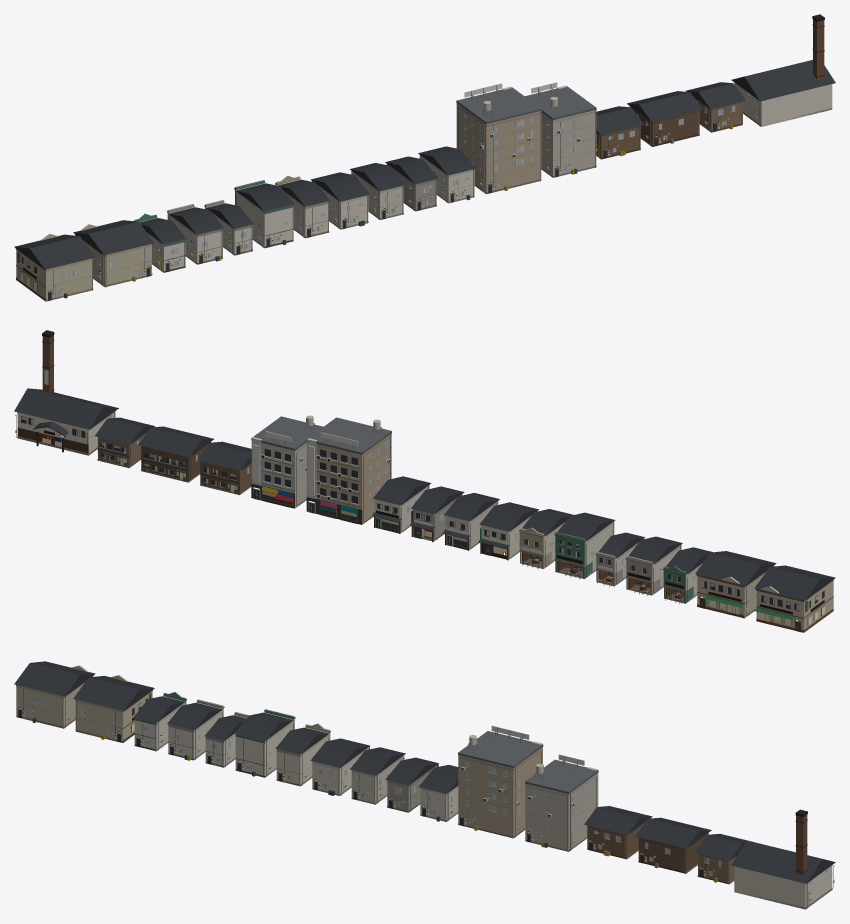
The model's file is daigakufront.glb.
3 renders of one model, top to bottom at view 1: azimuth 30°, elevation 25°; view 2: azimuth 150°, elevation 25°; view 3: azimuth 330°, elevation 25°, orthographic.
Visible parts, largest first — view 1: daigakufront_biru_a_body, daigakufront_sento_body, daigakufront_biru_b_body, daigakufront_kissa_body, daigakufront_kissa_r_body, daigakufront_geshuku_b_body, daigakufront_kosho_d_body, daigakufront_kosho_b_body, daigakufront_mise_a_body, daigakufront_mise_d_body, daigakufront_kosho_e_body, daigakufront_geshuku_a_body (+5 smaller); view 2: daigakufront_biru_a_body, daigakufront_sento_body, daigakufront_biru_b_body, daigakufront_kissa_body, daigakufront_kissa_r_body, daigakufront_geshuku_b_body, daigakufront_kosho_d_body, daigakufront_geshuku_a_body, daigakufront_kosho_b_body, daigakufront_mise_a_body, daigakufront_mise_d_body, daigakufront_kosho_e_body (+5 smaller); view 3: daigakufront_biru_a_body, daigakufront_biru_b_body, daigakufront_sento_body, daigakufront_kissa_r_body, daigakufront_kissa_body, daigakufront_geshuku_b_body, daigakufront_kosho_d_body, daigakufront_geshuku_a_body, daigakufront_kosho_b_body, daigakufront_kosho_e_body, daigakufront_mise_a_body, daigakufront_mise_b_body (+5 smaller).
Boxes of the visible parts, x1,y1,x2,y2 form: daigakufront_biru_a_body: (456,83,541,194); daigakufront_sento_body: (731,14,835,126); daigakufront_biru_b_body: (525,82,596,177); daigakufront_kissa_body: (14,233,95,301); daigakufront_kissa_r_body: (73,220,153,287); daigakufront_geshuku_b_body: (627,91,702,146); daigakufront_kosho_d_body: (234,180,294,248); daigakufront_kosho_b_body: (167,204,223,264); daigakufront_mise_a_body: (310,172,369,229); daigakufront_mise_d_body: (418,146,476,203); daigakufront_kosho_e_body: (275,175,330,238); daigakufront_geshuku_a_body: (596,106,643,159); daigakufront_biru_a_body: (306,417,391,524); daigakufront_sento_body: (14,330,118,455); daigakufront_biru_b_body: (251,415,323,508); daigakufront_kissa_body: (754,565,835,632); daigakufront_kissa_r_body: (695,551,776,618); daigakufront_geshuku_b_body: (138,426,213,482); daigakufront_kosho_d_body: (554,512,615,579); daigakufront_geshuku_a_body: (197,441,251,495); daigakufront_kosho_b_body: (625,536,682,595); daigakufront_mise_a_body: (478,502,539,560); daigakufront_mise_d_body: (372,476,431,533); daigakufront_kosho_e_body: (519,509,573,569); daigakufront_biru_a_body: (458,725,543,838); daigakufront_biru_b_body: (525,754,598,851); daigakufront_sento_body: (731,809,835,909); daigakufront_kissa_r_body: (73,675,154,742); daigakufront_kissa_body: (14,661,95,728); daigakufront_geshuku_b_body: (635,817,711,873); daigakufront_kosho_d_body: (234,709,295,777); daigakufront_geshuku_a_body: (584,806,652,859); daigakufront_kosho_b_body: (167,699,224,760); daigakufront_kosho_e_body: (275,723,330,786); daigakufront_mise_a_body: (310,738,370,795); daigakufront_mise_b_body: (350,747,405,804).
Bounding box in the file's own units: 201 × 22.2 × 15.08.
